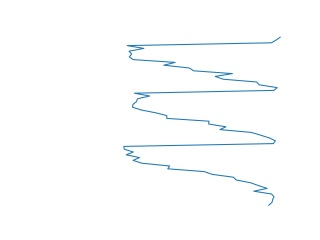distributaryMouthBar: (121, 35, 282, 206)
